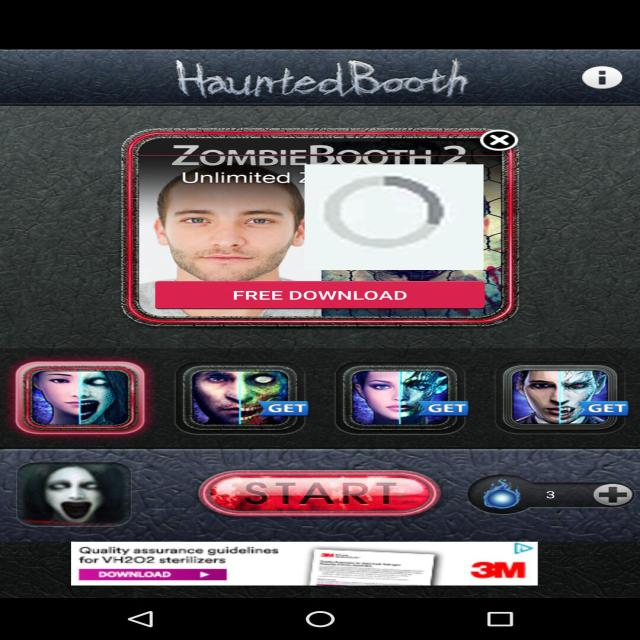misdirection: (304, 164, 483, 270)
